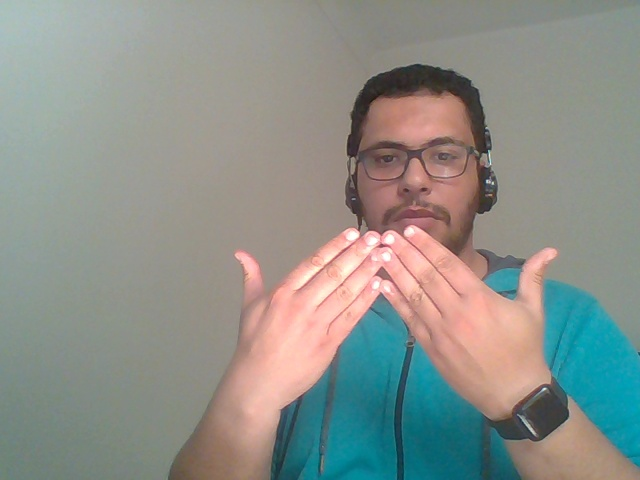thanks: (145, 219, 631, 480)
